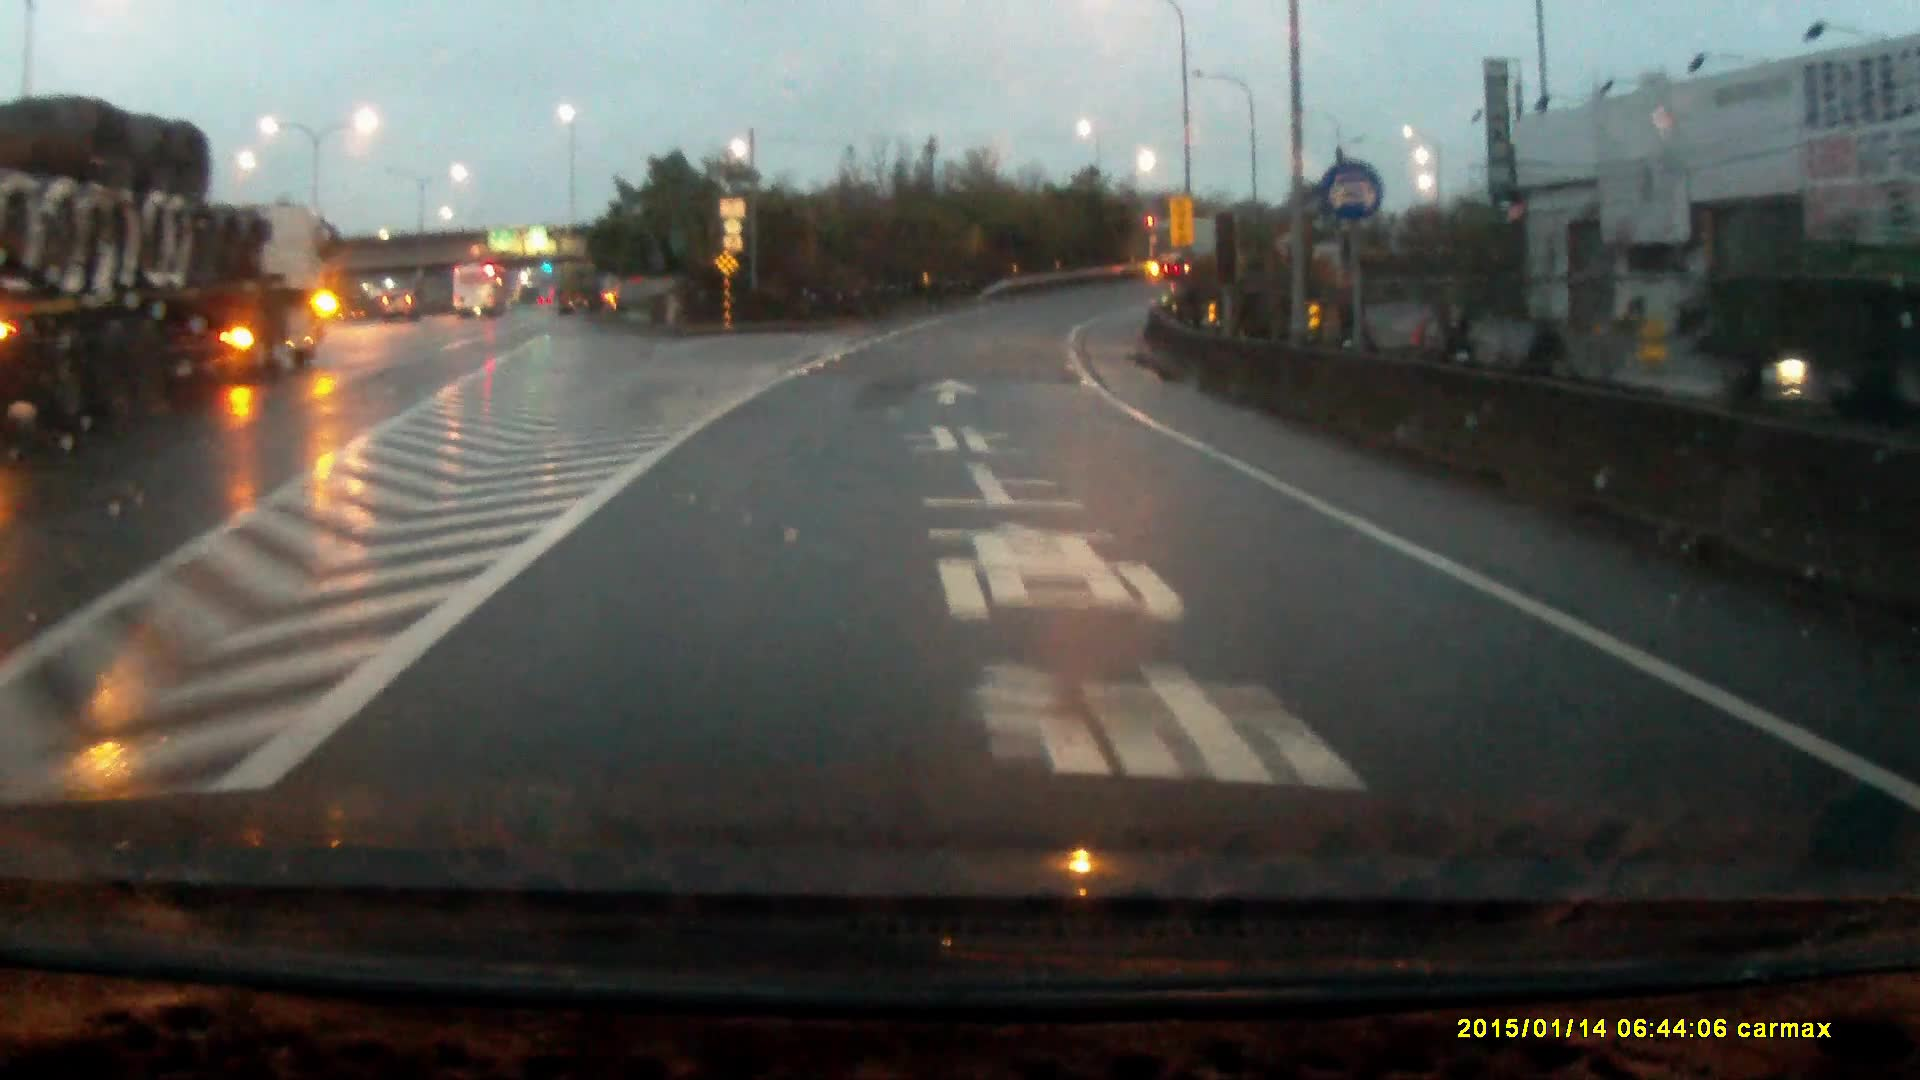vehicle: (1, 100, 342, 433), (1147, 219, 1240, 281), (452, 264, 514, 322), (382, 291, 419, 322)
